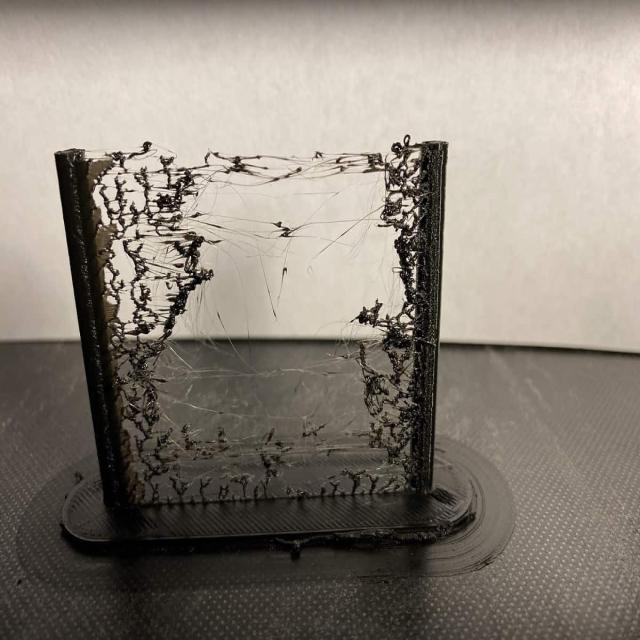Stringing: (86, 144, 423, 501)
